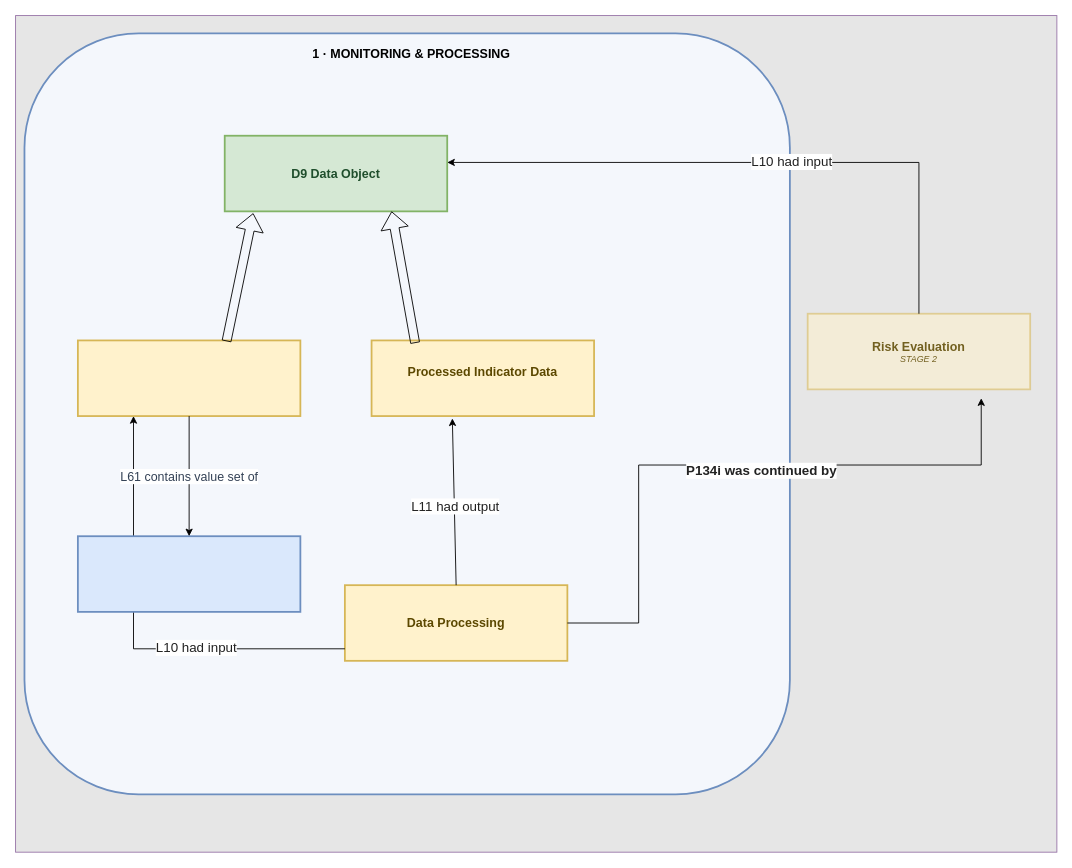
Image size: 1072x868. Some labels were removed from this diagram. The shapes that lost their labels are listed below. From the top down, each one's centre as x and y in pixels, then its label:
At pixel 189 378: "Incoming Monitoring Data".
At pixel 189 573: "E54 Dimension (Indicator Value)".
